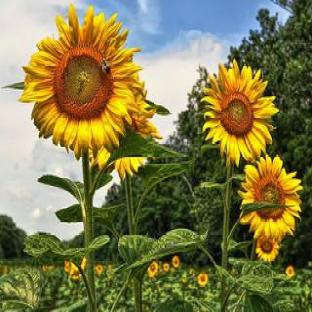sunflower: (200, 61, 274, 165)
